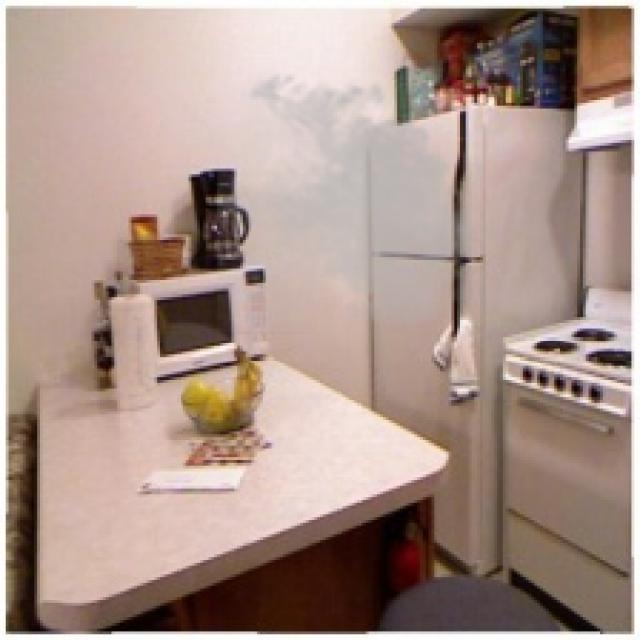Smoke: (217, 66, 489, 334)
